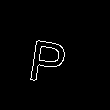P_N: (32, 29, 76, 85)
